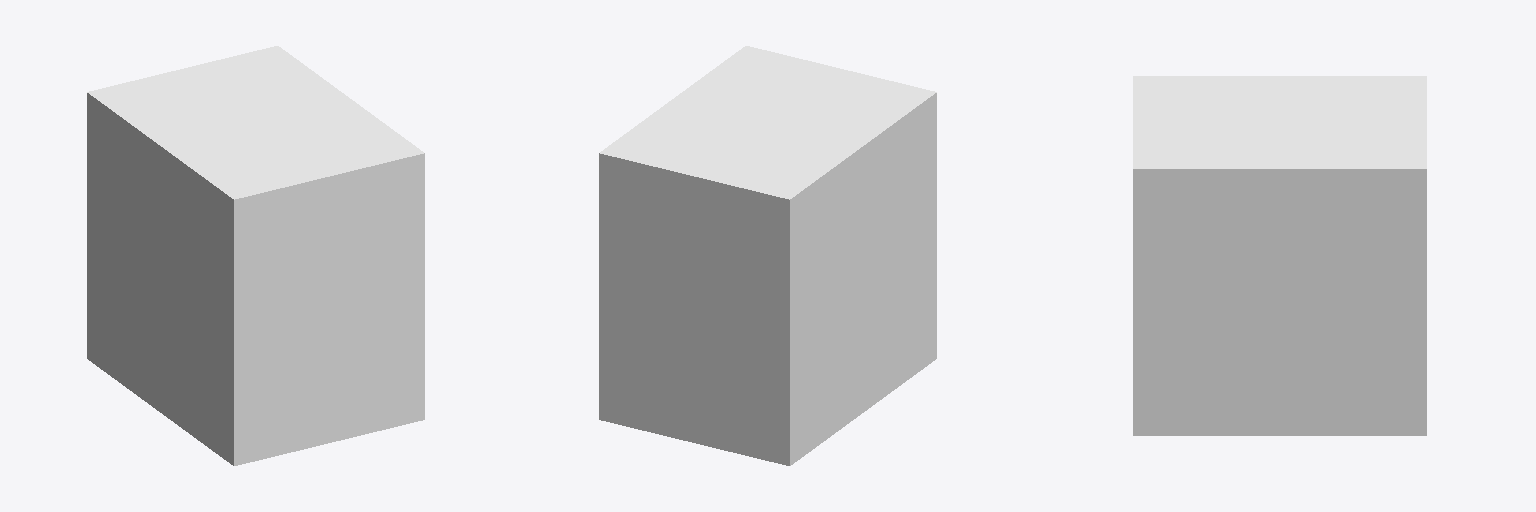
The model's file is brickx6.obj.
3 views of the same model, side by side, from view 1: azimuth 30°, elevation 25°; view 2: azimuth 150°, elevation 25°; view 3: azimuth 270°, elevation 25° (orthographic).
Parts seen in each view (by area): view 1: object 1; view 2: object 1; view 3: object 1.
Part boxes in pixels (x1,y1,x2,y2): object 1: (87, 46, 424, 465); object 1: (599, 46, 936, 465); object 1: (1133, 76, 1426, 435).
Bounding box in the file's own units: 0.6 × 0.8 × 0.8.